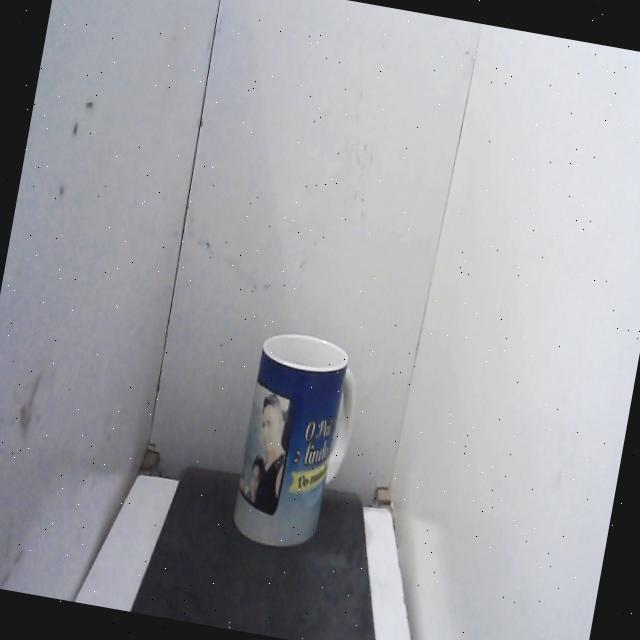vidro: (217, 318, 372, 572)
